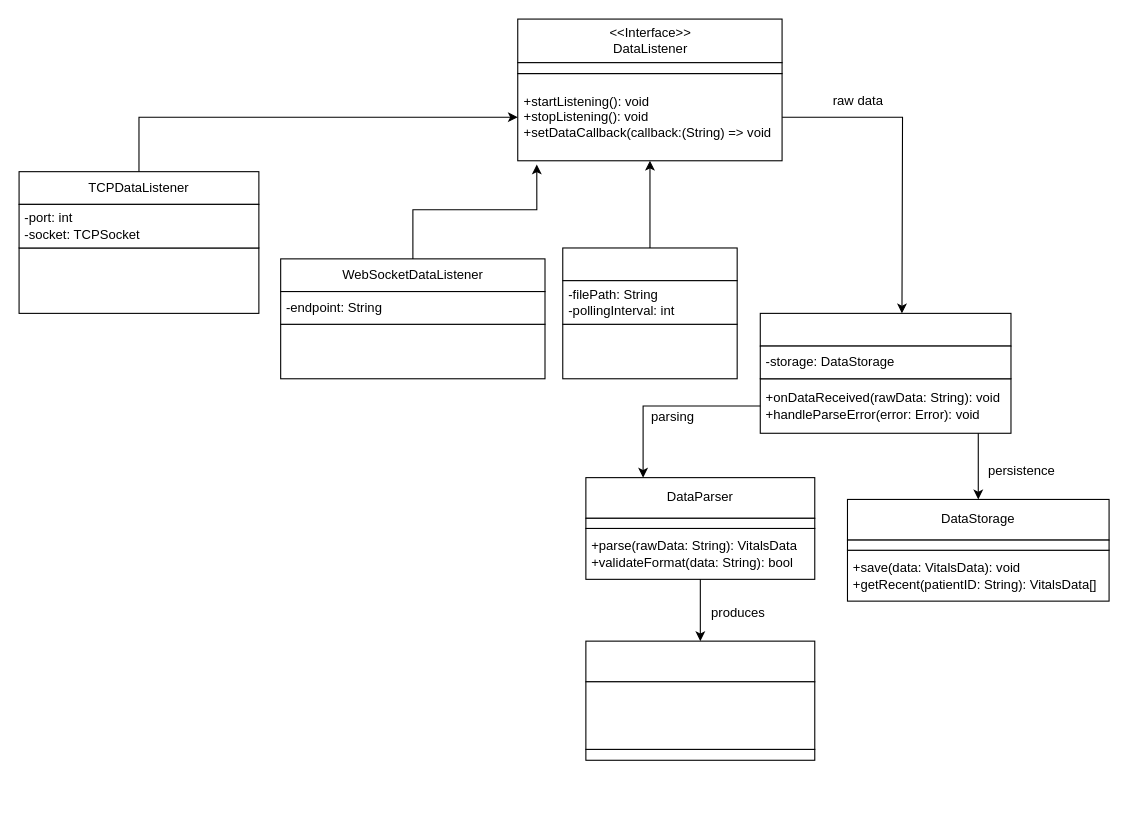
This 1128x823 diagram has some shape labels left out. Each missing label, with the centre of its shape:
"+patientID: String +timestamp: DateTime +values: Map<String, float>" belongs at [700,715].
"+startListening(): void +handleMessage(event: WSMessage): void" belongs at [412,351].
"+startListening(): void +parseRawPacket(data: byte[]): String" belongs at [138,280].
"+startListening(): void +readNewLines(): String[]" belongs at [649,351].
"DataSourceAdapter" belongs at [885,329].
"FileDataListener" belongs at [649,264].
"VitalsData" belongs at [700,661].
